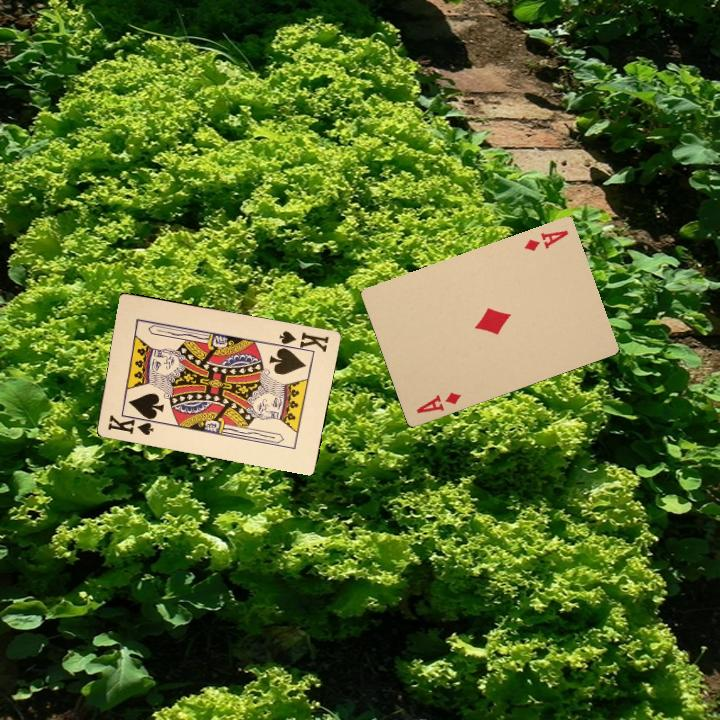Ad: (520, 226, 571, 254), (412, 388, 462, 416)
Ks: (275, 327, 332, 356), (104, 410, 159, 438)
